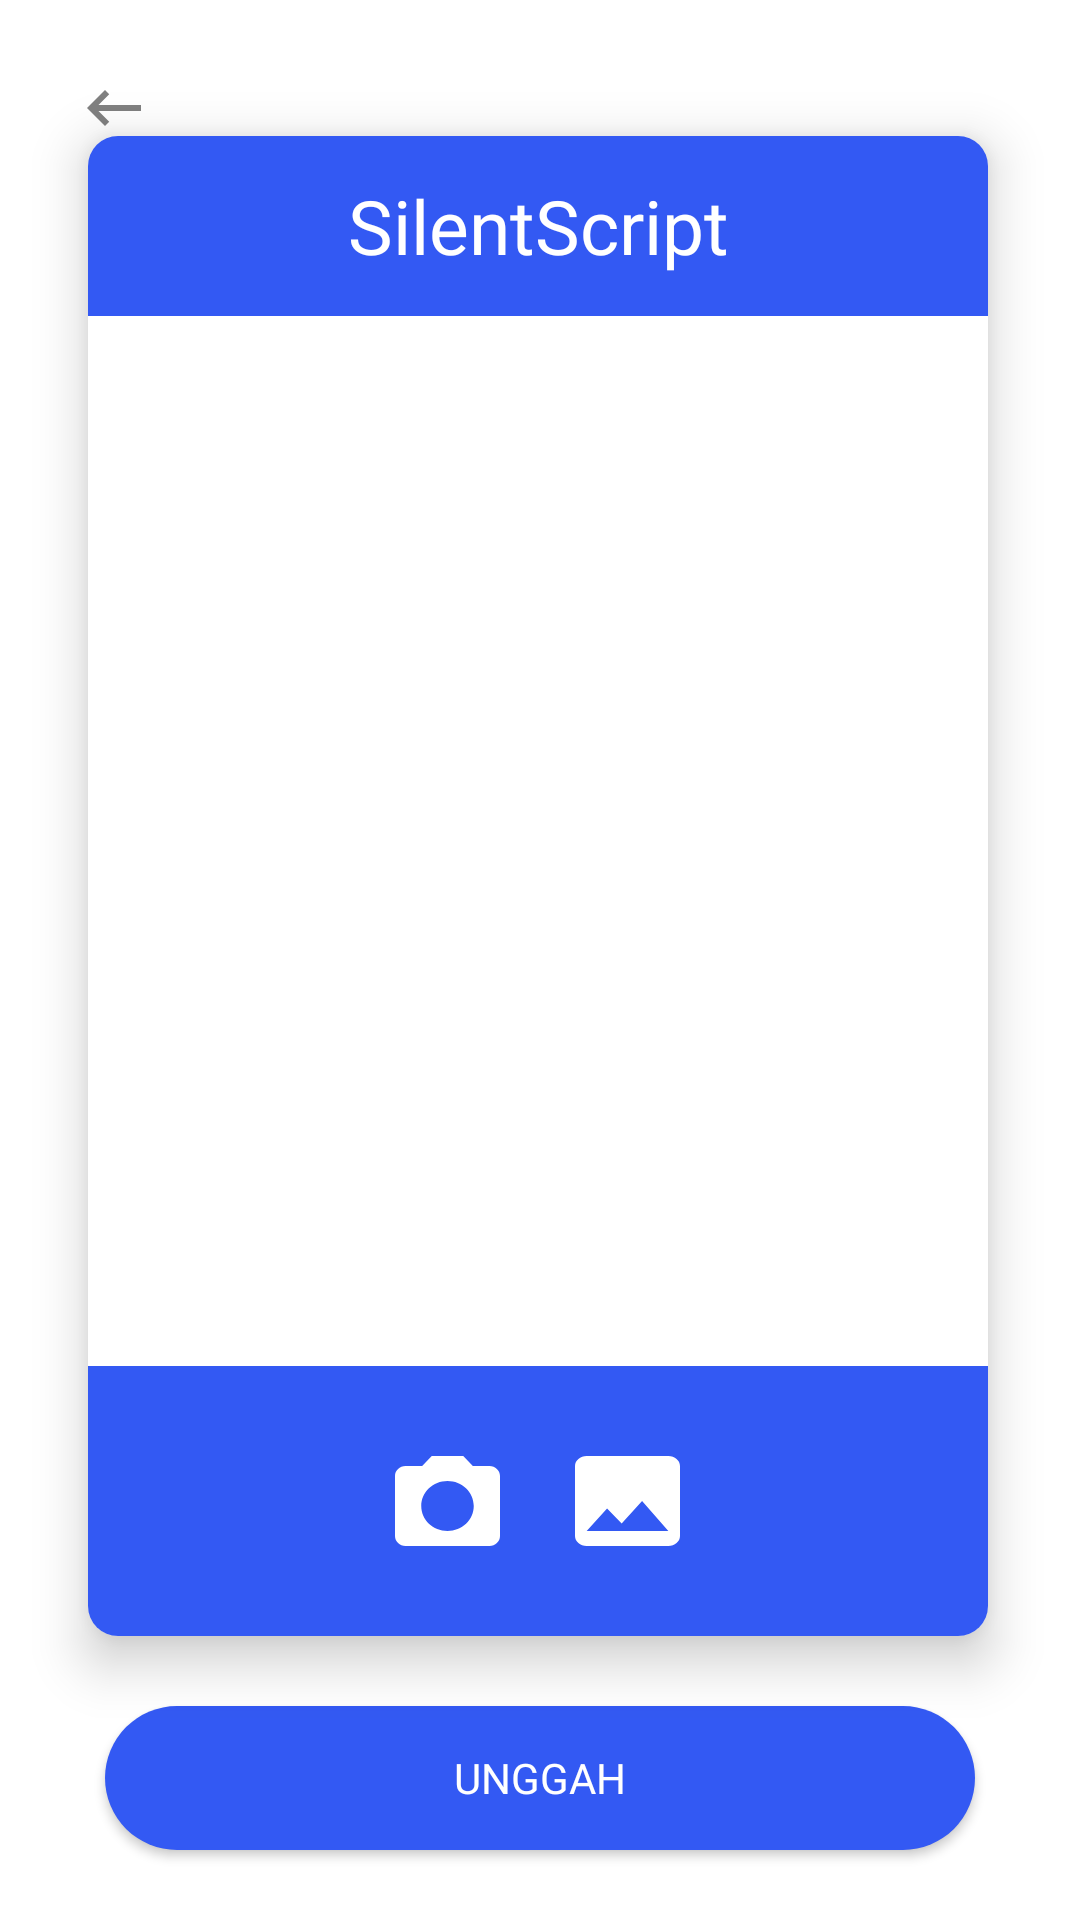

Icon click points for this 1080px x 1920px phone screenshot, format point (x, y):
keyboard backspace: point (114, 108)
